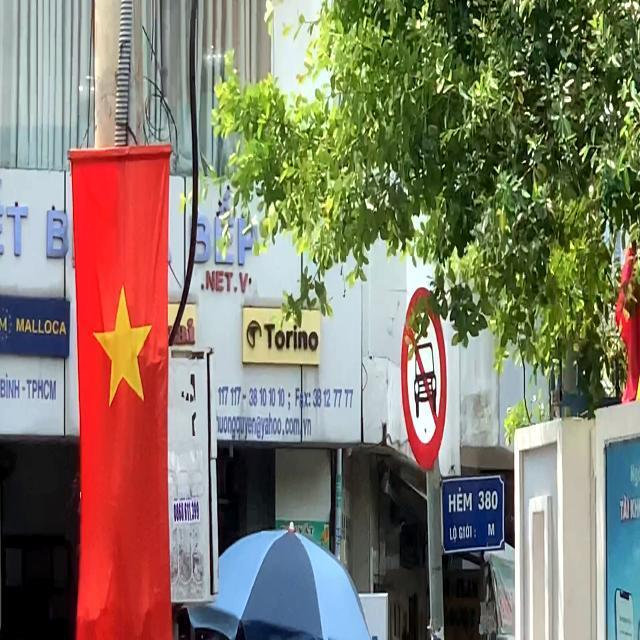Cam_O_To: (400, 287, 449, 472)
